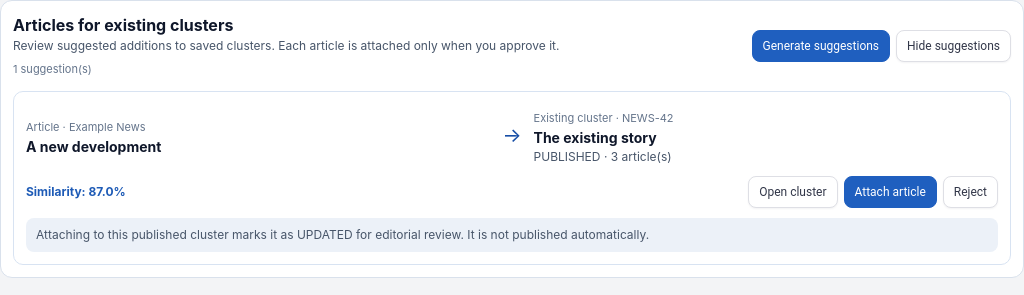
Test case: article suggestions for existing clusters › refreshes stale suggestions after a rejected attach request
The image size is (1024, 295).
Click the button "Attach article": (890, 192) x1=844 y1=176 x2=937 y2=208
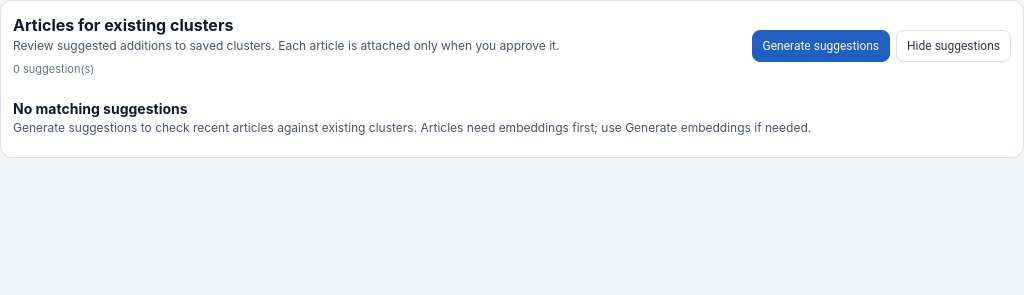
Check: the text "No matching suggestions" is shown, box x1=13 y1=100 x2=188 y2=117
